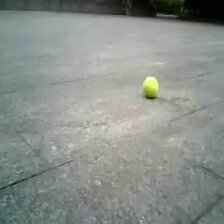tennis: (143, 77, 158, 97)
